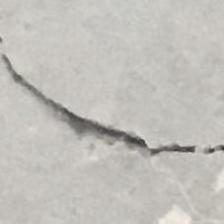Crack: (0, 39, 224, 175)
